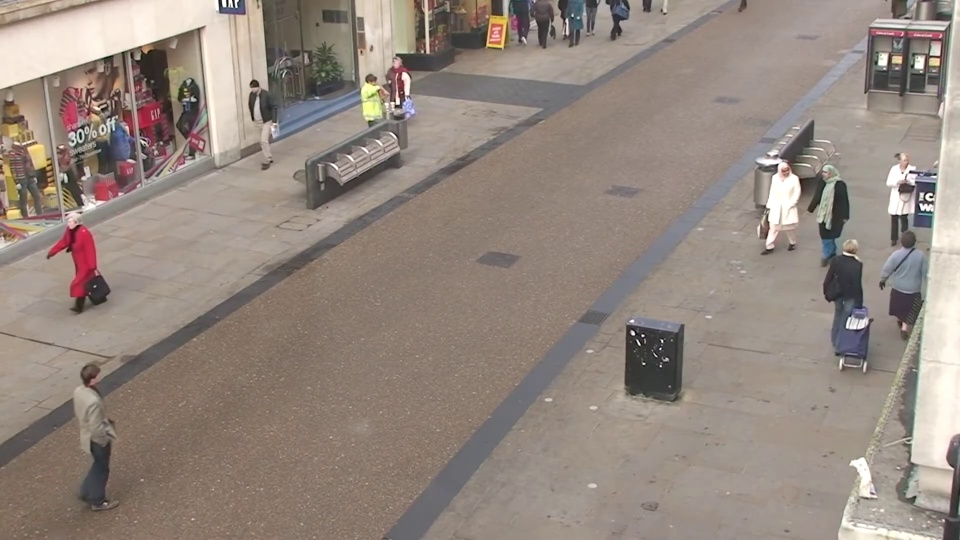pedestrian: (85, 349, 151, 505), (877, 220, 930, 346), (43, 212, 98, 330), (823, 229, 872, 356), (875, 149, 921, 256), (799, 163, 840, 272), (757, 157, 796, 264), (238, 82, 271, 167), (357, 71, 387, 153), (380, 57, 409, 136)
